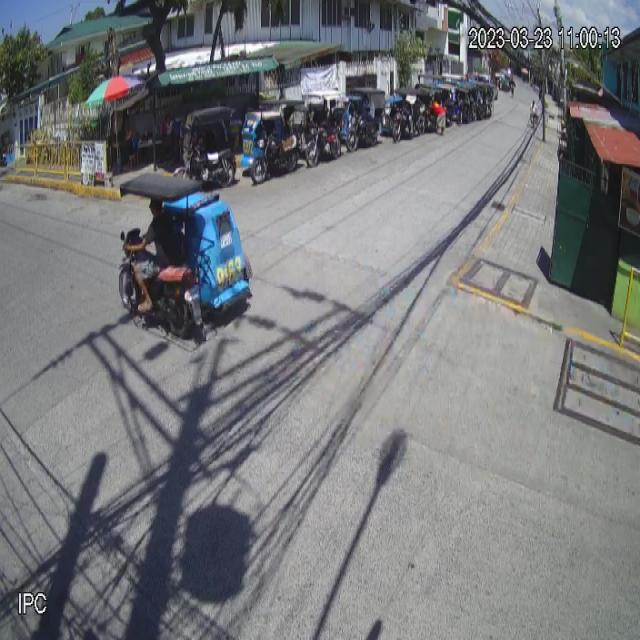Tricycle: (118, 172, 253, 342)
